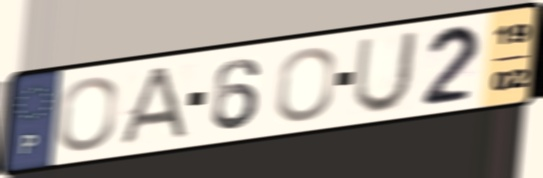2: (415, 20, 488, 113)
6: (210, 57, 263, 132)
A: (112, 63, 192, 149)
O: (55, 73, 121, 154), (273, 44, 339, 125)
U: (349, 28, 422, 115)
